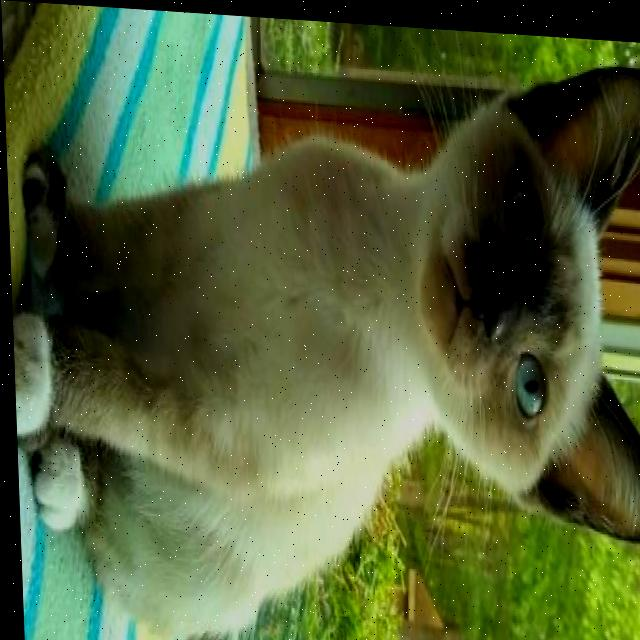Siamese: (0, 12, 640, 640)
